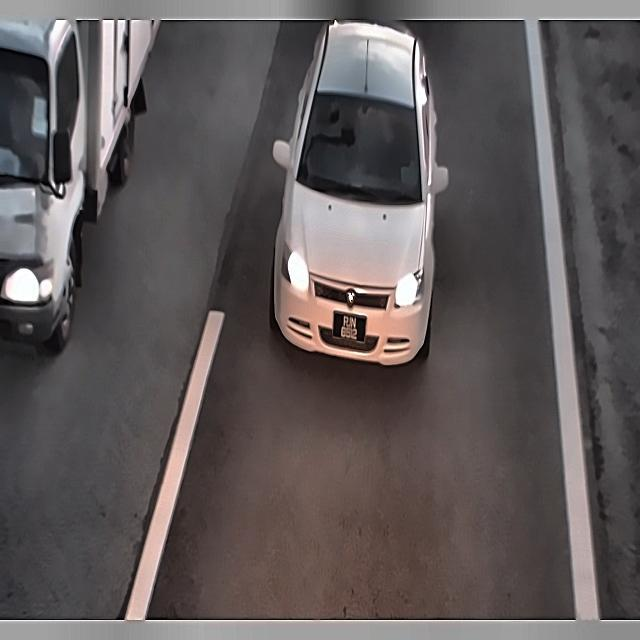car: (327, 304, 370, 356)
